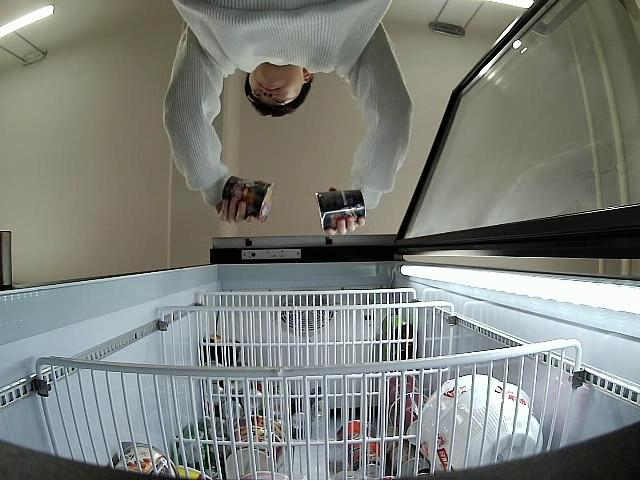00_hand: (216, 195, 262, 228), (325, 212, 368, 239)
08_buldak_S: (221, 175, 275, 221), (314, 190, 368, 230)
